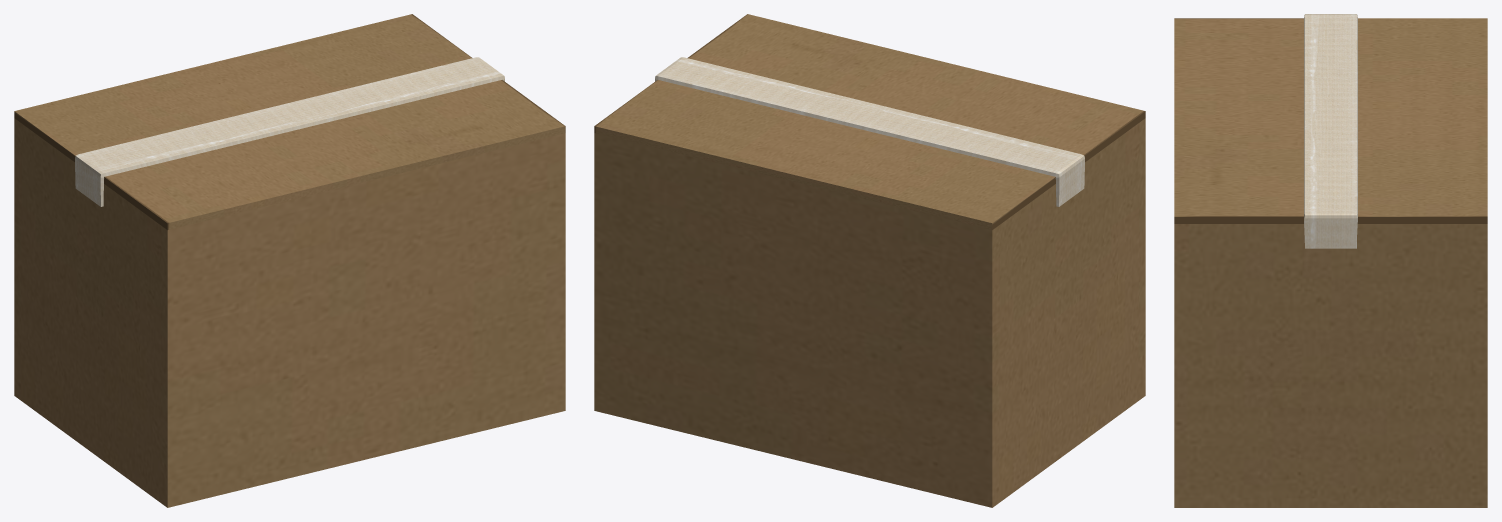
The model's file is item_box.fbx.
3 views of the same model, side by side, from view 1: azimuth 30°, elevation 25°; view 2: azimuth 150°, elevation 25°; view 3: azimuth 270°, elevation 25° (orthographic). The views are drawn at different scales.
Visible parts, largest first — view 1: Itembox, Itembox_-y_cap, Itembox_y_cap, Itembox_tape; view 2: Itembox, Itembox_y_cap, Itembox_-y_cap, Itembox_tape; view 3: Itembox, Itembox_y_cap, Itembox_-y_cap, Itembox_tape.
Part boxes in pixels (<box>): Itembox: <box>14,118,565,507</box>; Itembox_-y_cap: <box>104,80,565,230</box>; Itembox_y_cap: <box>14,14,472,161</box>; Itembox_tape: <box>75,57,504,206</box>; Itembox: <box>594,118,1145,507</box>; Itembox_y_cap: <box>594,80,1055,230</box>; Itembox_-y_cap: <box>687,14,1145,161</box>; Itembox_tape: <box>655,57,1084,206</box>; Itembox: <box>1174,224,1487,507</box>; Itembox_y_cap: <box>1357,18,1487,223</box>; Itembox_-y_cap: <box>1174,18,1303,223</box>; Itembox_tape: <box>1304,14,1357,248</box>.
Bounding box in the file's own units: 60.95 × 41.48 × 40.
